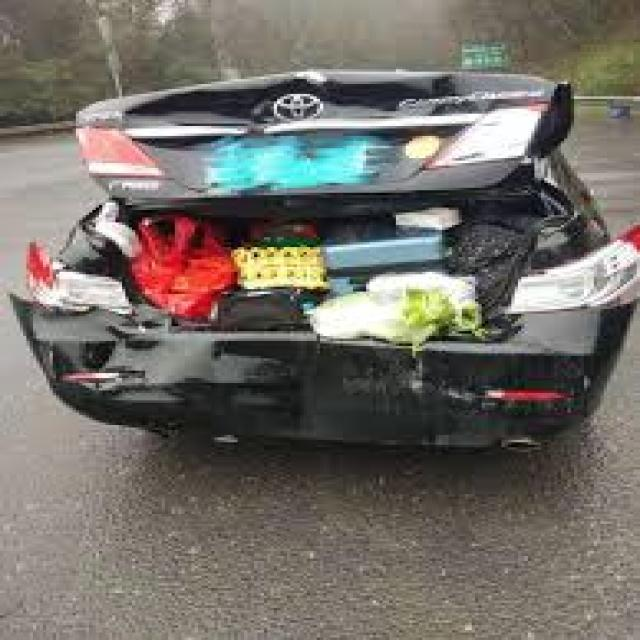damaged-trunk: (82, 70, 566, 210)
